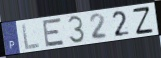2: (89, 12, 110, 41), (111, 9, 131, 37)
3: (66, 14, 86, 45)
E: (42, 17, 66, 48)
L: (21, 21, 41, 51)
Z: (132, 5, 155, 36)
